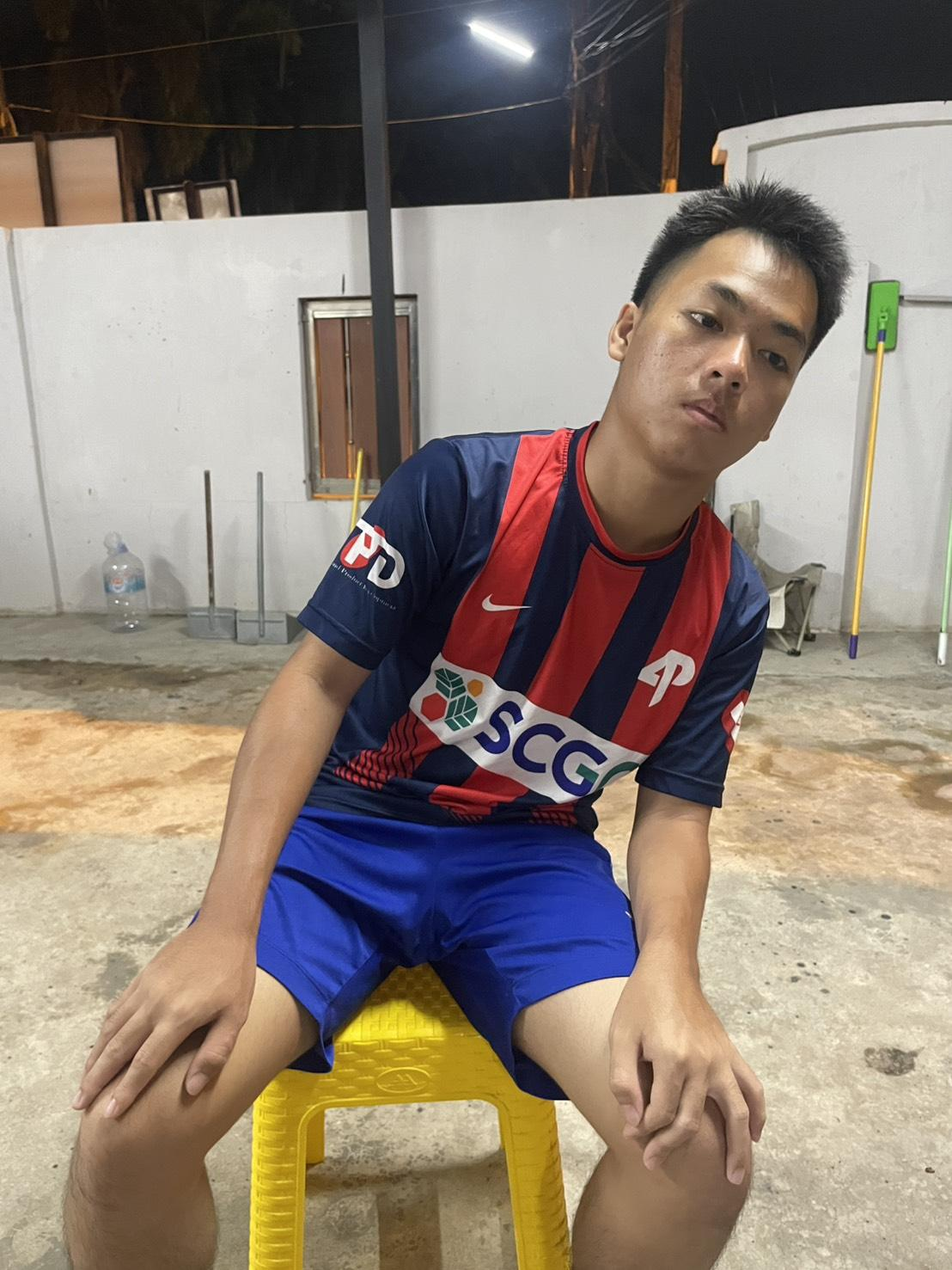BadPosture: (216, 185, 849, 1119)
